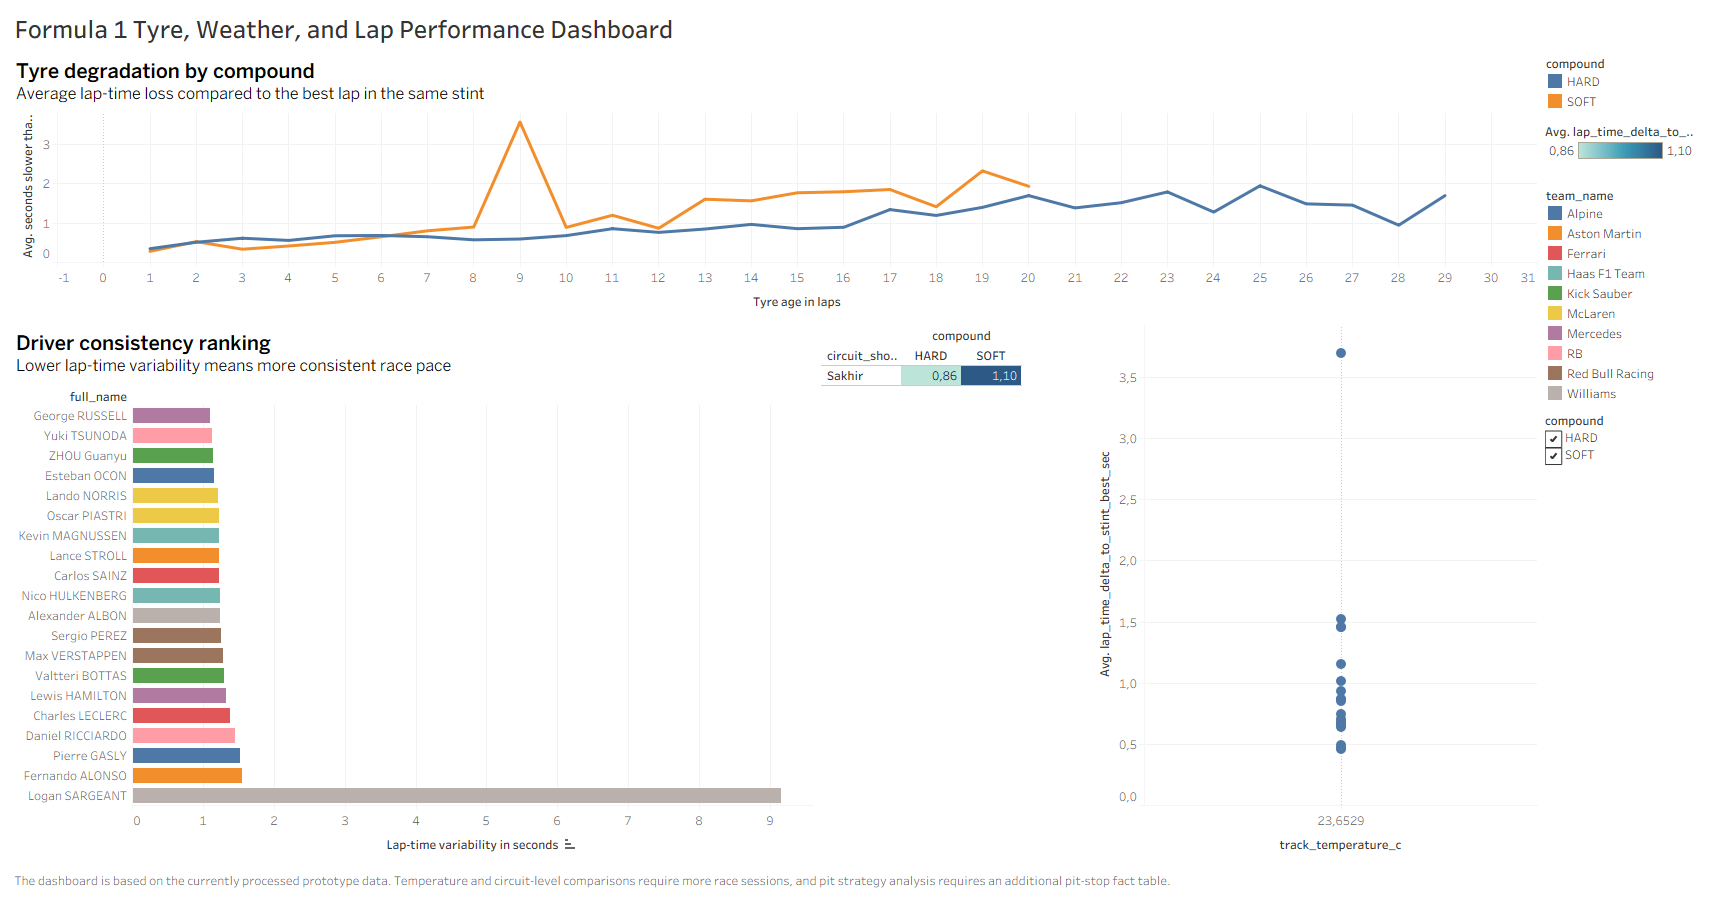

This screenshot's page, from the dashboard's own definition file:
{"tool":"tableau","page":{"name":"F1 Dashboard Overview","canvas":[1000,1000],"units":"permille","ordinal":0},"visuals":[{"type":"title","box":[4.7,8.8,990.6,45.4]},{"type":"worksheet","title":"Q1 Tyre Degradation","mark":"Line","rows":["lap_time_delta_to_stint_best_sec"],"cols":["tyre_age_lap"],"box":[4.7,54.2,897,300.8]},{"type":"legend","title":"Q1 Tyre Degradation","param":"[federated.18gq59w00fkvg71bi7fw31ybn3ly].[none:compound:nk]","box":[901.7,54.2,93.6,73]},{"type":"legend","title":"Q5 Circuit Effects","param":"[federated.18gq59w00fkvg71bi7fw31ybn3ly].[avg:lap_time_delta_to_stint_best_sec:q","box":[901.7,127.2,93.6,71.9]},{"type":"legend","title":"Q4 Driver Consistency","param":"[federated.18gq59w00fkvg71bi7fw31ybn3ly].[none:team_name:nk]","box":[901.7,199.1,93.6,250]},{"type":"worksheet","title":"Q4 Driver Consistency","mark":"Automatic","rows":["full_name"],"cols":["Calculation_2063509688614912"],"box":[4.7,355,473.3,600.7]},{"type":"worksheet","title":"Q5 Circuit Effects","mark":"Square","rows":["circuit_short_name (dim_circuit.csv)"],"cols":["compound"],"box":[478,355,156.8,600.7]},{"type":"worksheet","title":"Q2 Temperature Impact","mark":"Circle","rows":["lap_time_delta_to_stint_best_sec"],"cols":["track_temperature_c"],"box":[634.8,355,266.9,600.7]},{"type":"filter","title":"Q1 Tyre Degradation","param":"[federated.18gq59w00fkvg71bi7fw31ybn3ly].[none:compound:nk]","box":[901.7,449.1,93.6,98.5]},{"type":"text","box":[4.7,955.7,990.6,35.5]}]}

Visuals, with their boxes on the dashboard's canvas, which has no fixed pixel size, in thousandths of its width and height (x1, y1, x2, y2). These are canvas units, not pixel positions in the 1709x904 screenshot, which may show the page scaled, cropped or inside an application window:
title: bbox(5, 9, 995, 54)
"Q1 Tyre Degradation" worksheet (Line marks): bbox(5, 54, 902, 355)
"Q1 Tyre Degradation" legend: bbox(902, 54, 995, 127)
"Q5 Circuit Effects" legend: bbox(902, 127, 995, 199)
"Q4 Driver Consistency" legend: bbox(902, 199, 995, 449)
"Q4 Driver Consistency" worksheet: bbox(5, 355, 478, 956)
"Q5 Circuit Effects" worksheet (Square marks): bbox(478, 355, 635, 956)
"Q2 Temperature Impact" worksheet (Circle marks): bbox(635, 355, 902, 956)
"Q1 Tyre Degradation" filter: bbox(902, 449, 995, 548)
text: bbox(5, 956, 995, 991)
